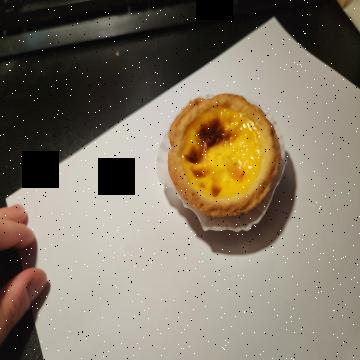EggTart: (167, 92, 281, 219)
